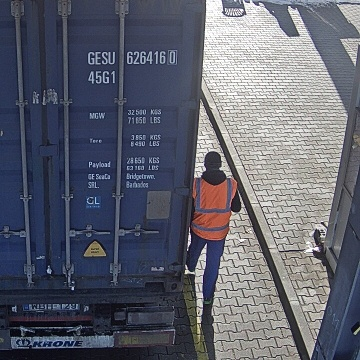serial_id: (88, 51, 176, 65)
